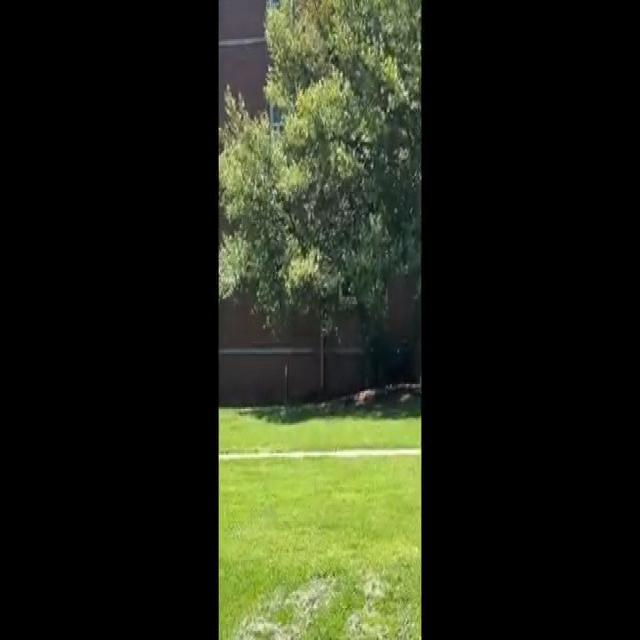drone: (318, 319, 332, 338)
